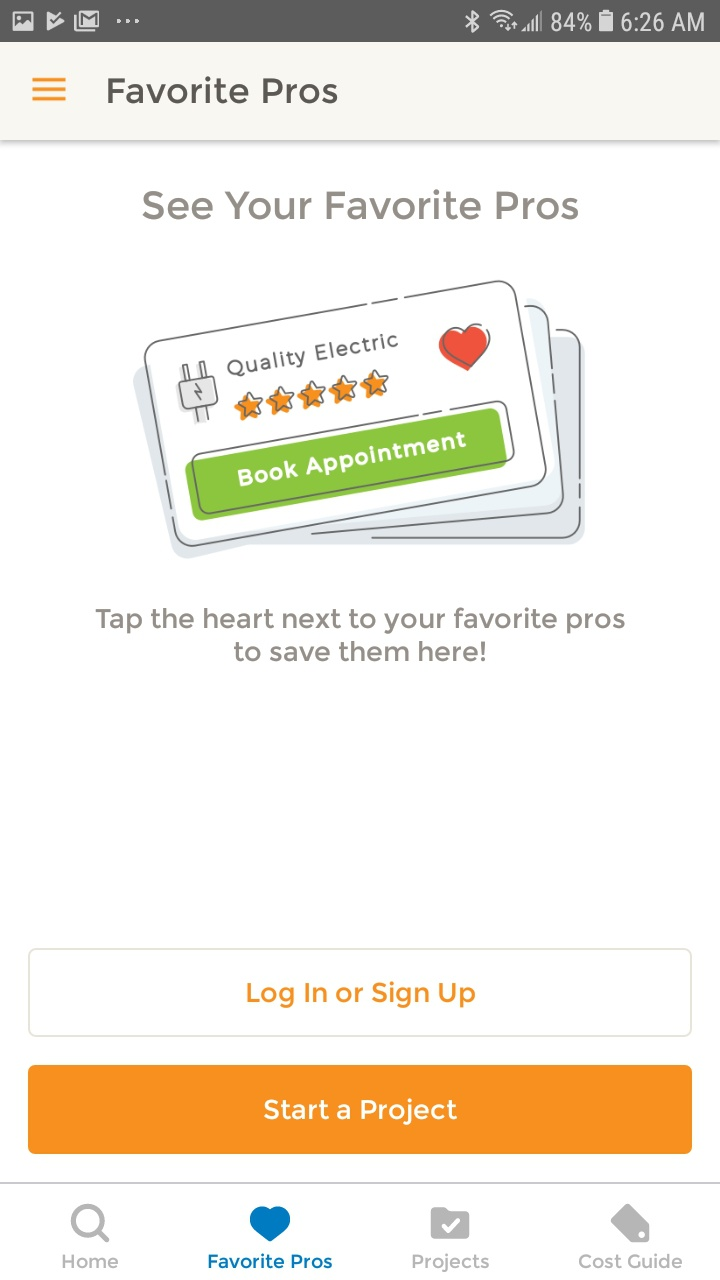Icon: (71, 1203, 111, 1243), (610, 1203, 650, 1243), (250, 1205, 291, 1242), (431, 1207, 470, 1240), (33, 78, 68, 103)
Image: (133, 281, 585, 560)
Text: (95, 607, 625, 663), (142, 189, 579, 221), (108, 77, 338, 106), (208, 1253, 333, 1269), (579, 1253, 683, 1269), (412, 1253, 490, 1273), (62, 1254, 119, 1269)
TextButton: (29, 1065, 693, 1155), (28, 948, 692, 1038)
UpperTaskBar: (1, 1, 720, 43)
